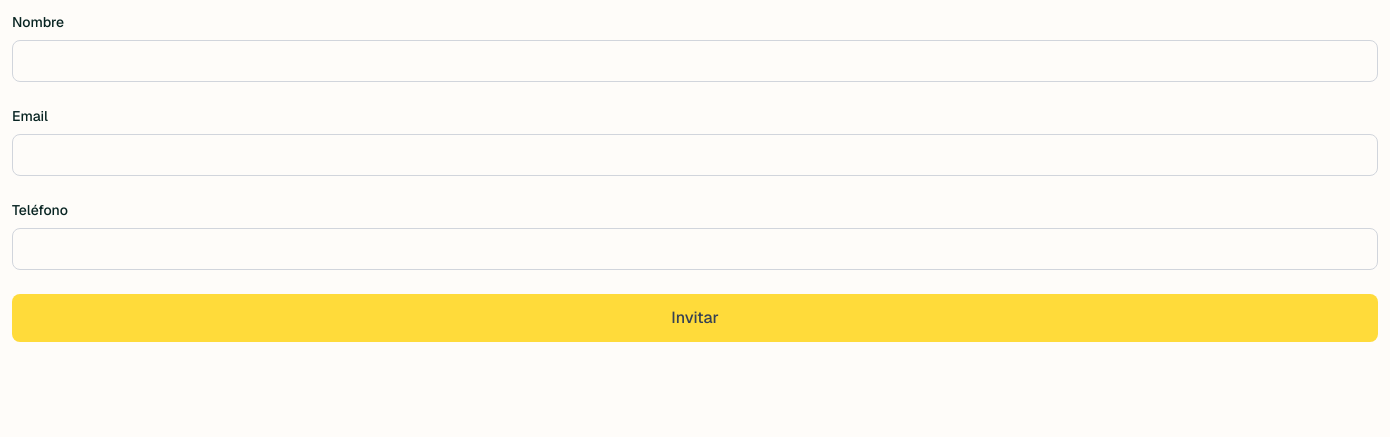
Test: ReferralForm › should display NetworkError when mutation fails with NetworkError
In the field labelled "Nombre": (695, 61) [12,40,1378,82], type "John Doe"
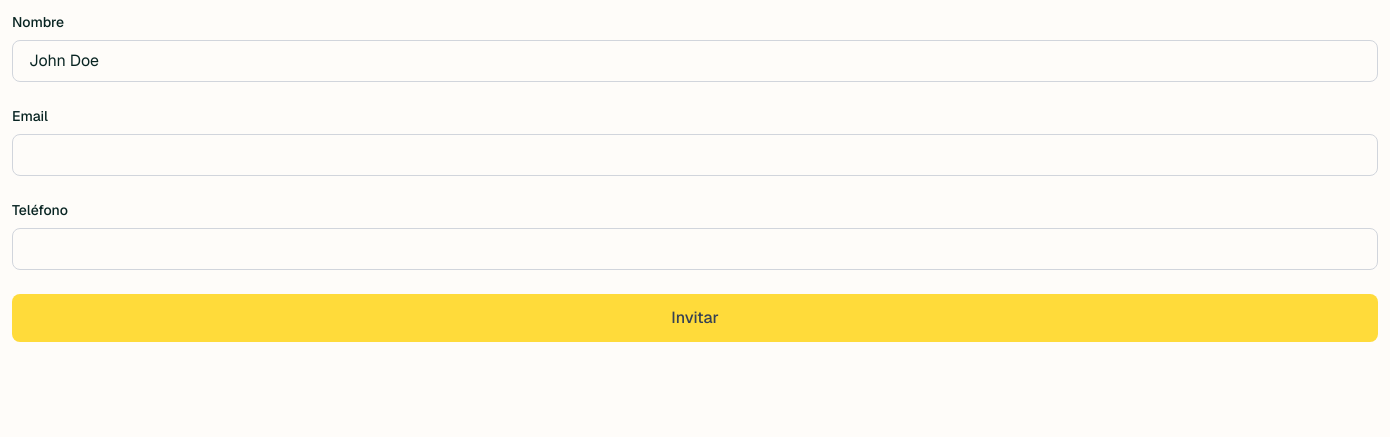
In the field labelled "Email": (695, 155) [12,134,1378,176], type "john@example.com"
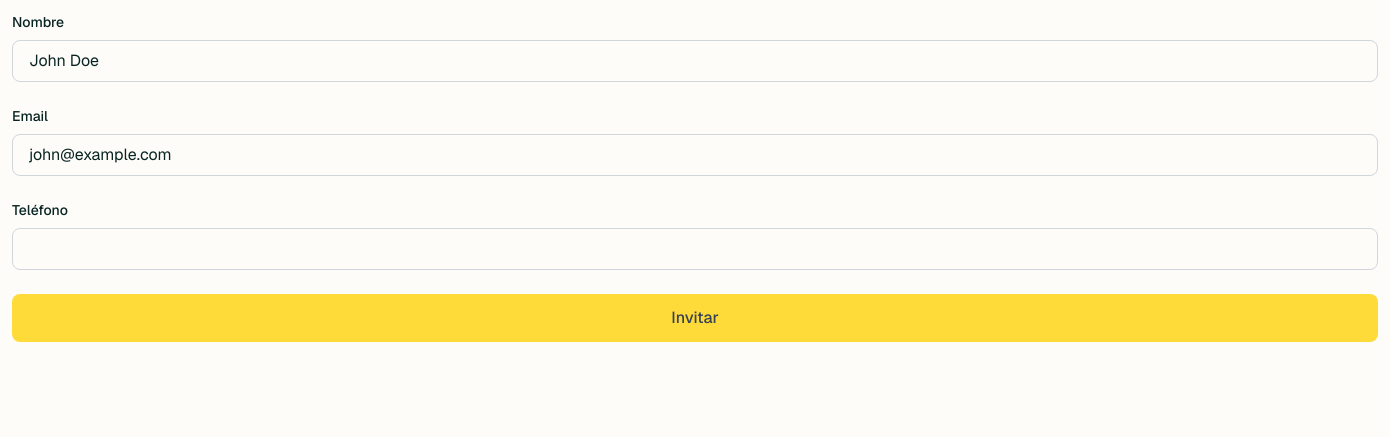
In the field labelled "Teléfono": (695, 249) [12,228,1378,270], type "+1234567890"
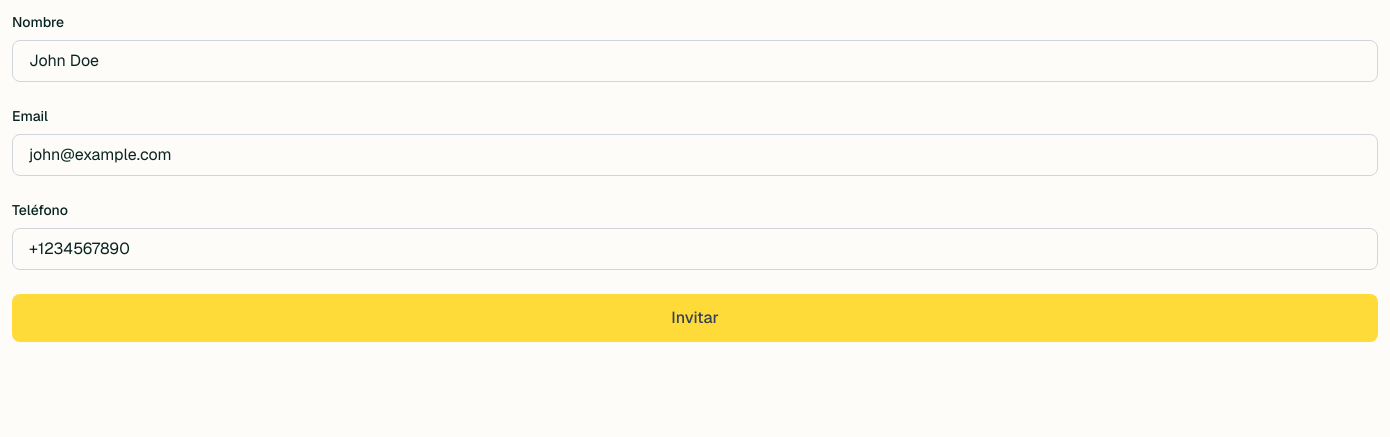
Submit the form labelled "Nombre"
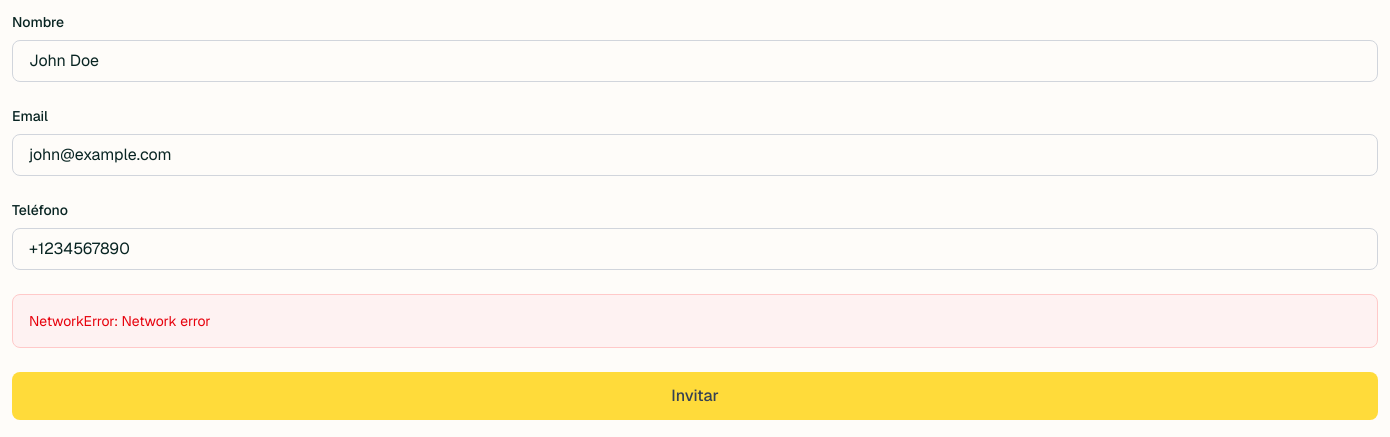
expect the text "NetworkError: Network error" is shown: met, box [29,312,211,330]
